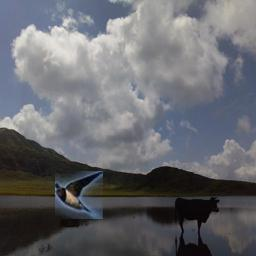Swallow: (55, 171, 103, 219)
